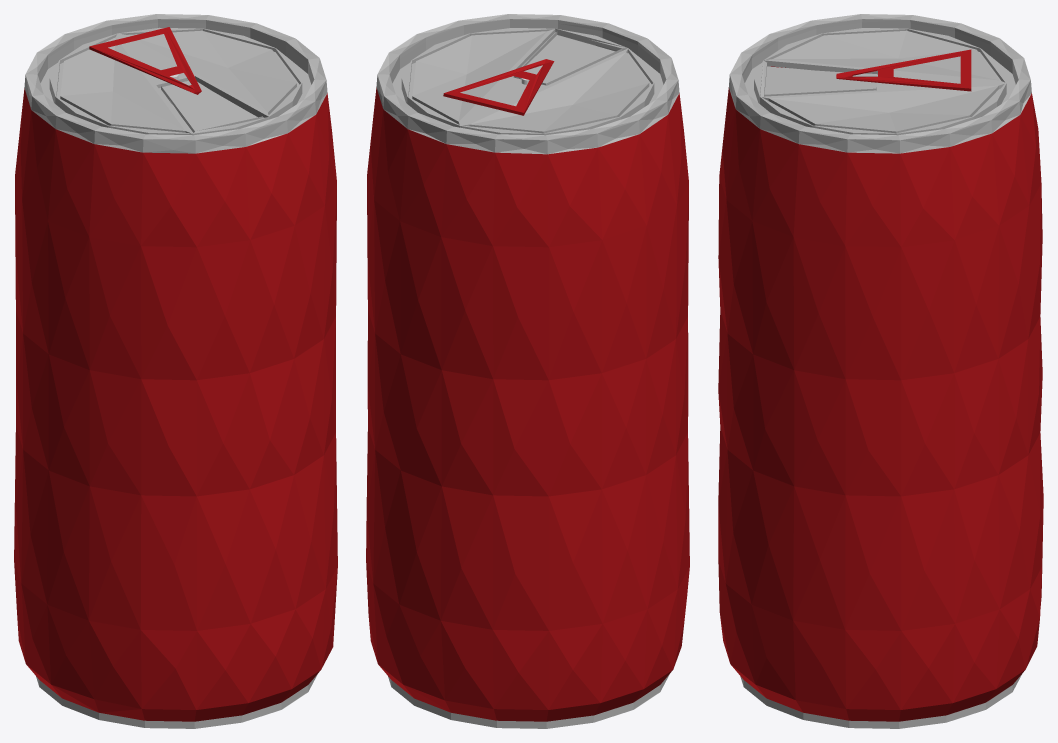
The model's file is soda_can.fbx.
3 views of the same model, side by side, from view 1: azimuth 30°, elevation 25°; view 2: azimuth 150°, elevation 25°; view 3: azimuth 270°, elevation 25° (orthographic).
Visible parts, largest first — view 1: soda_can_body, soda_can_top, can_cover, soda_can_bottom, can_opener; view 2: soda_can_body, soda_can_top, soda_can_bottom, can_cover, can_opener; view 3: soda_can_body, soda_can_top, can_cover, soda_can_bottom, can_opener.
Boxes of the visible parts, x1=… form: soda_can_body: x1=14, y1=88, x2=337, y2=721; soda_can_top: x1=24, y1=14, x2=327, y2=153; can_cover: x1=162, y1=80, x2=257, y2=131; soda_can_bottom: x1=36, y1=674, x2=317, y2=728; can_opener: x1=89, y1=27, x2=201, y2=94; soda_can_body: x1=366, y1=87, x2=689, y2=721; soda_can_top: x1=376, y1=14, x2=679, y2=154; soda_can_bottom: x1=388, y1=674, x2=669, y2=728; can_cover: x1=524, y1=35, x2=615, y2=83; can_opener: x1=443, y1=59, x2=554, y2=115; soda_can_body: x1=718, y1=66, x2=1043, y2=721; soda_can_top: x1=729, y1=14, x2=1031, y2=153; can_cover: x1=764, y1=66, x2=877, y2=94; soda_can_bottom: x1=740, y1=673, x2=1022, y2=728; can_opener: x1=836, y1=49, x2=971, y2=91.
Size of the model in its own units: 40.47 by 82.54 by 40.62.
